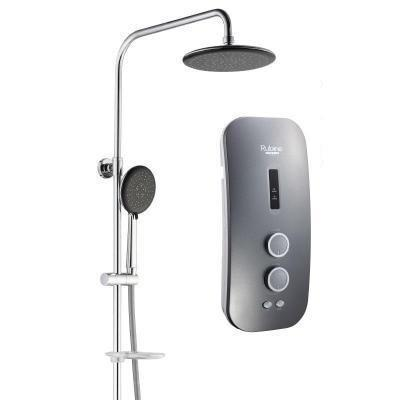Ducha: (92, 0, 331, 399)
